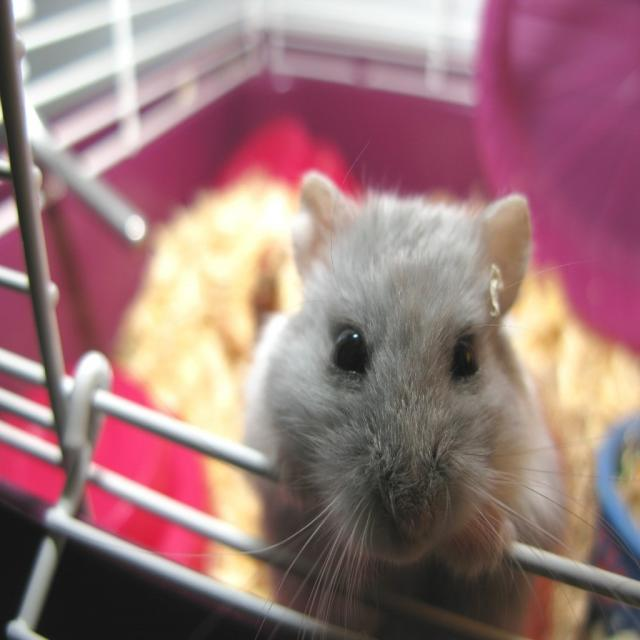rat: (242, 172, 569, 640)
